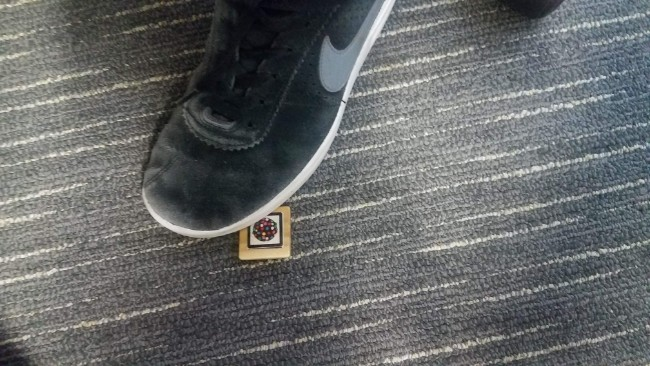cookie: (238, 203, 291, 260)
